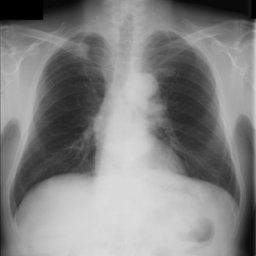leftlobe: (145, 32, 239, 200)
right lobe: (12, 34, 112, 210)
